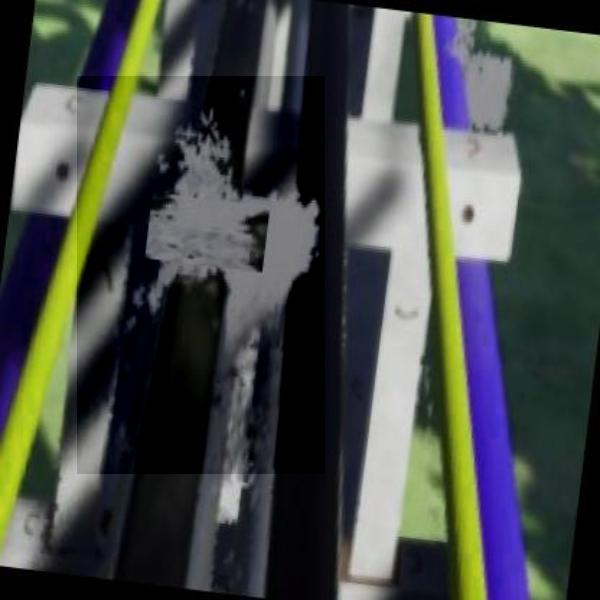gas: (77, 76, 325, 474)
